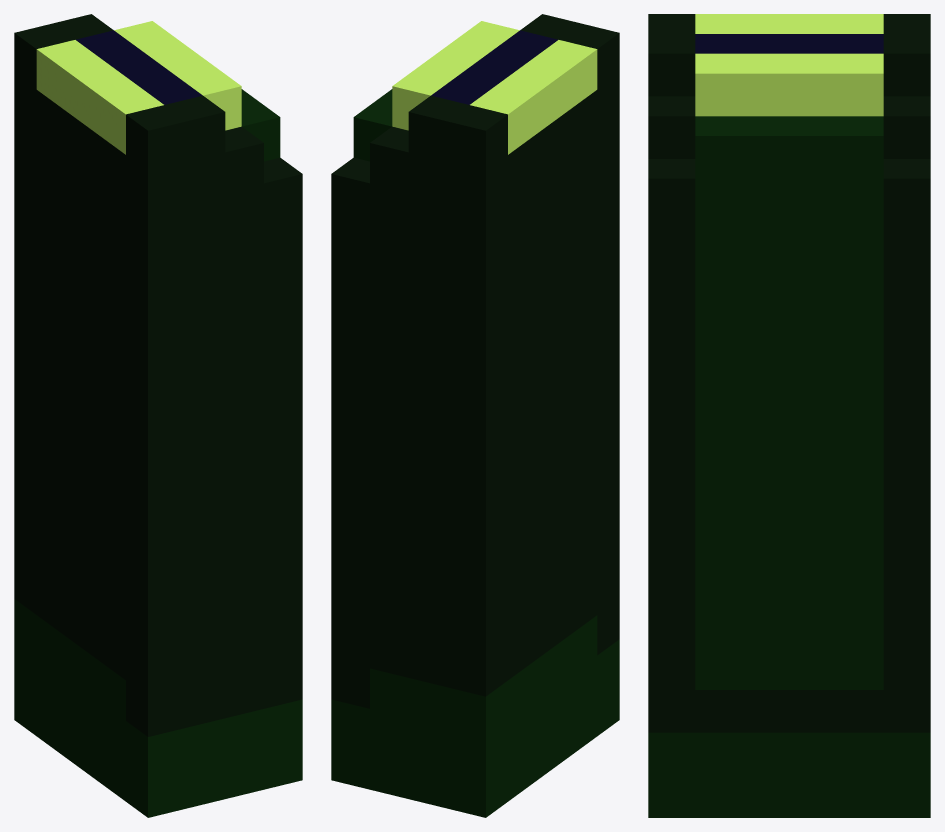
File: grenade launcher-2.obj
3 renders of one model, left to right at view 1: azimuth 30°, elevation 25°; view 2: azimuth 150°, elevation 25°; view 3: azimuth 270°, elevation 25°, orthographic. The views are drawn at different scales.
Size of the model in its own units: 0.4 by 1.7 by 0.6.
1 material, 1 textured.
